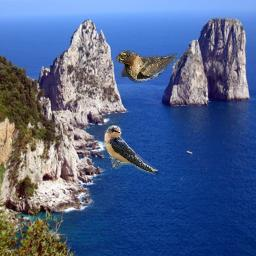Swallow: (104, 123, 158, 175), (116, 50, 178, 83)
